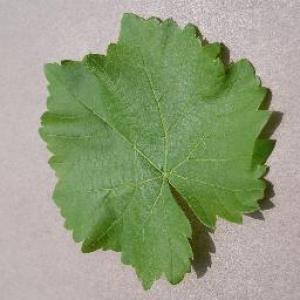Folha: (37, 11, 282, 290)
